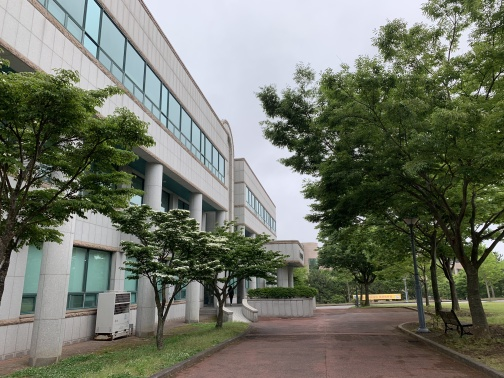Joint Experimental Labs: (303, 244, 318, 271)
Second Library: (14, 9, 303, 363)
